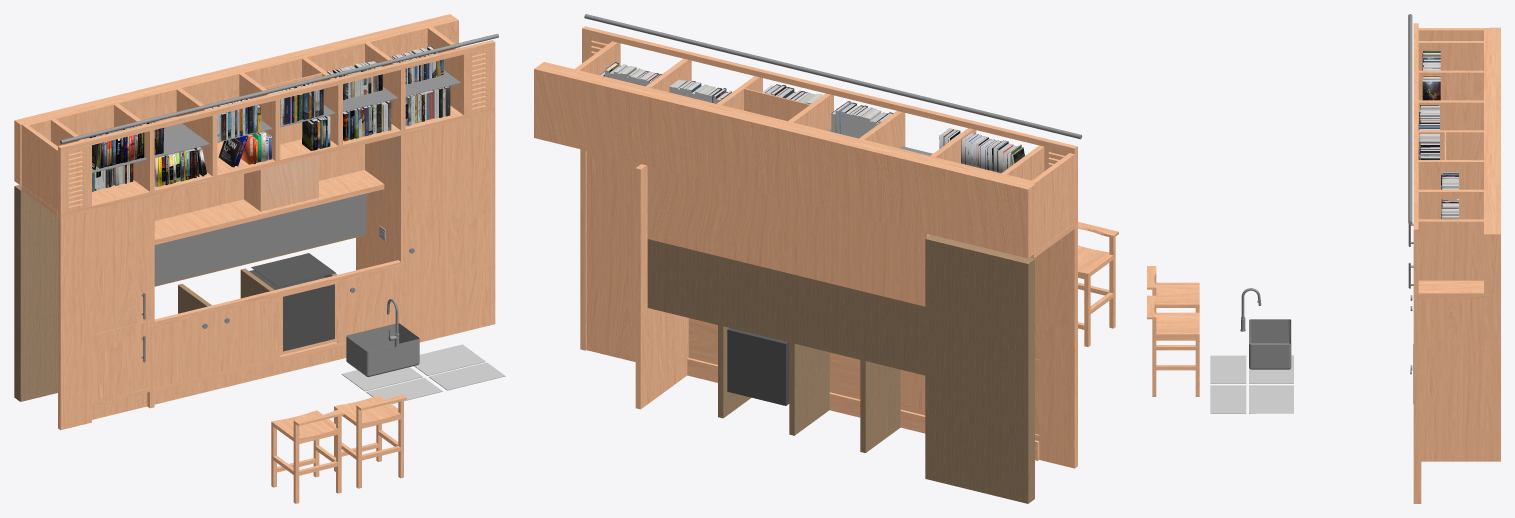
The model's file is Kitchen.glb.
3 views of the same model, side by side, from view 1: azimuth 30°, elevation 25°; view 2: azimuth 150°, elevation 25°; view 3: azimuth 270°, elevation 25° (orthographic). The views are drawn at different scales.
Visible parts, largest first — view 1: Interior_Wood_Kitchen, Alumininum_1_Kitchen, Interior_Light_Wood_Kitchen, White_Prop_Kitchen, Twenty books, pCube1, Sixteen books, Books_30_A_Object, Books_30_B_Object, Books_30_C_Object, Books_30_D_Object, Books_40_C_Object (+3 smaller); view 2: Interior_Wood_Kitchen, Interior_Light_Wood_Kitchen, Alumininum_1_Kitchen, Twenty books, Books_30_C_Object, Books_40_C_Object, Books_40_D_Object; view 3: Interior_Wood_Kitchen, White_Prop_Kitchen, Alumininum_1_Kitchen, Twenty books, Books_30_D_Object, Books_30_C_Object.
Part boxes in pixels (box(x1,y1,x2,y2)): Interior_Wood_Kitchen: box(14, 14, 495, 503); Alumininum_1_Kitchen: box(60, 33, 498, 377); Interior_Light_Wood_Kitchen: box(14, 185, 364, 401); White_Prop_Kitchen: box(341, 226, 505, 403); Twenty books: box(89, 120, 164, 169); pCube1: box(261, 136, 400, 193); Sixteen books: box(154, 147, 206, 186); Books_30_A_Object: box(343, 101, 391, 141); Books_30_B_Object: box(405, 86, 450, 126); Books_30_C_Object: box(209, 98, 261, 141); Books_30_D_Object: box(272, 82, 323, 125); Books_40_C_Object: box(327, 61, 382, 99); Interior_Wood_Kitchen: box(534, 26, 1118, 468); Interior_Light_Wood_Kitchen: box(647, 235, 1034, 503); Alumininum_1_Kitchen: box(584, 14, 1082, 405); Twenty books: box(939, 128, 1024, 173); Books_30_C_Object: box(831, 101, 893, 138); Books_40_C_Object: box(669, 79, 731, 103); Books_40_D_Object: box(600, 62, 661, 86); Interior_Wood_Kitchen: box(1147, 23, 1500, 503); White_Prop_Kitchen: box(1210, 355, 1293, 413); Alumininum_1_Kitchen: box(1240, 14, 1413, 403); Twenty books: box(1422, 50, 1440, 100); Books_30_D_Object: box(1418, 134, 1439, 159); Books_30_C_Object: box(1418, 105, 1439, 130).
Bounding box in the file's own units: 1.88 × 1.2 × 1.36.
Materials: 35 (29 with a texture image).
